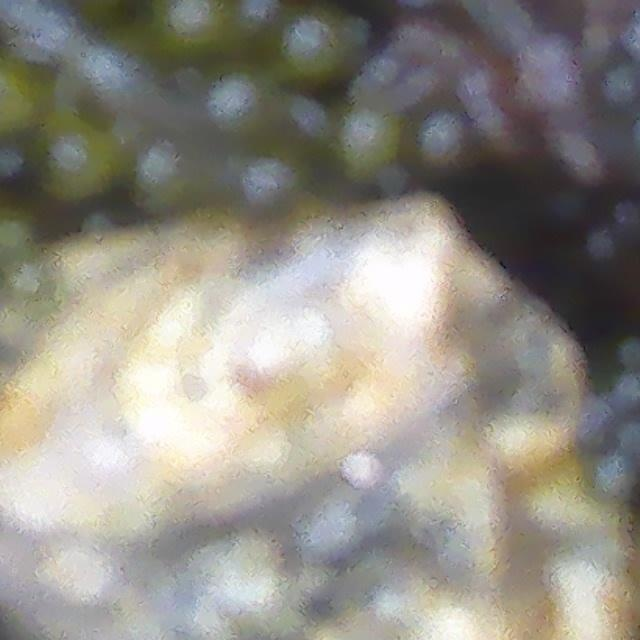SeaGrape: (328, 112, 402, 180), (211, 67, 274, 143), (281, 12, 341, 79), (300, 8, 353, 81), (339, 110, 401, 170), (172, 0, 230, 53)
